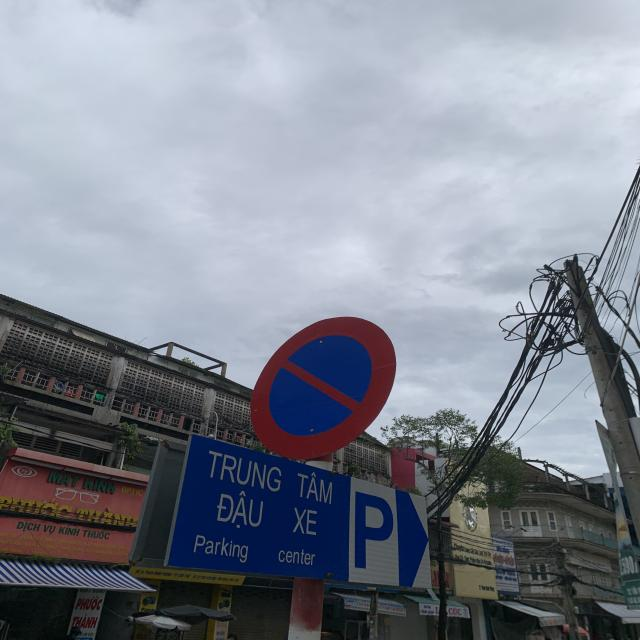Cam_Dau_Xe: (249, 315, 397, 460)
